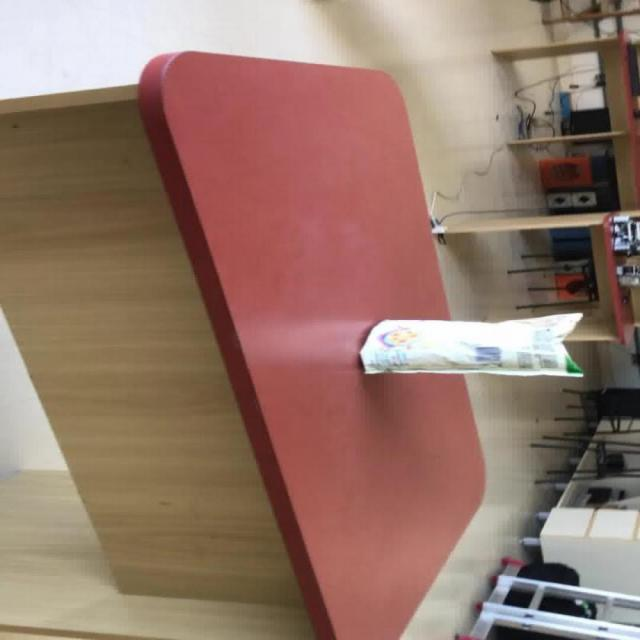CornFlakes: (358, 312, 582, 376)
